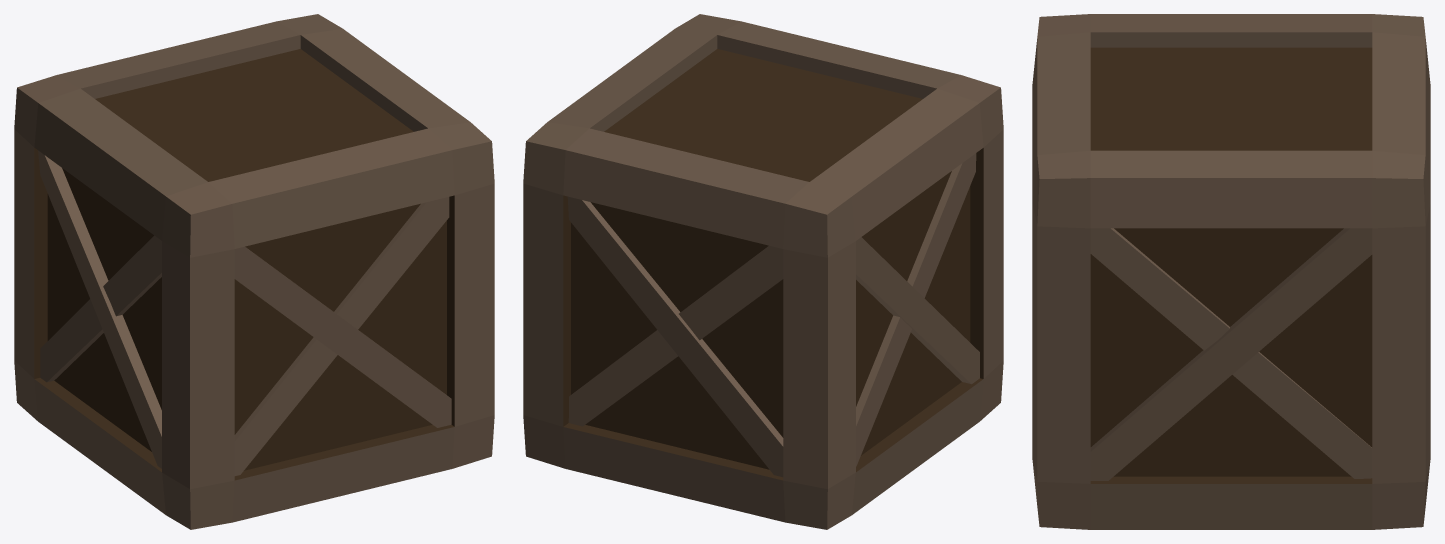
3 views of the same model, side by side, from view 1: azimuth 30°, elevation 25°; view 2: azimuth 150°, elevation 25°; view 3: azimuth 270°, elevation 25° (orthographic). The views are drawn at different scales.
Visible parts, largest first — view 1: Box; view 2: Box; view 3: Box.
Part boxes in pixels (x1,y1,x2,y2): Box: (14, 14, 494, 529); Box: (523, 14, 1003, 529); Box: (1032, 14, 1430, 529).
Bounding box in the file's own units: 219 × 219 × 219.
